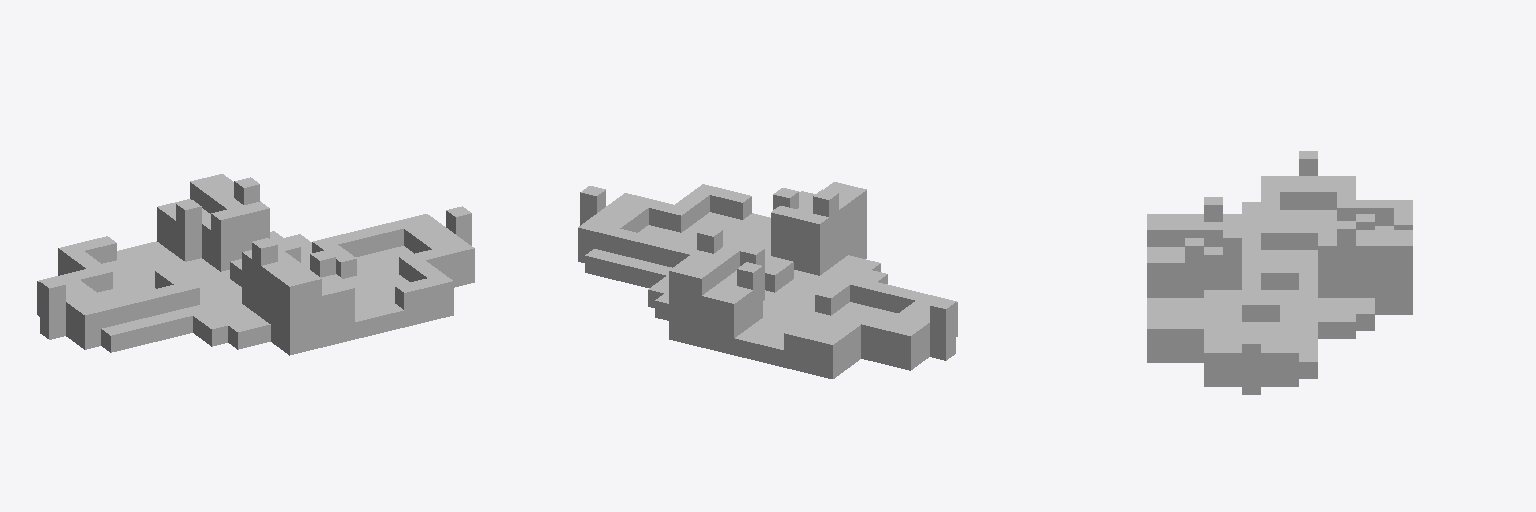
Rendered from level1-flows.obj.
3 renders of one model, left to right at view 1: azimuth 30°, elevation 25°; view 2: azimuth 150°, elevation 25°; view 3: azimuth 270°, elevation 25°, orthographic.
Parts seen in each view (by area): view 1: Untitled.001; view 2: Untitled.001; view 3: Untitled.001.
Part boxes in pixels (left/top/right/bottom): Untitled.001: left=37, top=174, right=474, bottom=355; Untitled.001: left=578, top=182, right=957, bottom=378; Untitled.001: left=1147, top=151, right=1412, bottom=394.
Bounding box in the file's own units: 24 × 5 × 14.